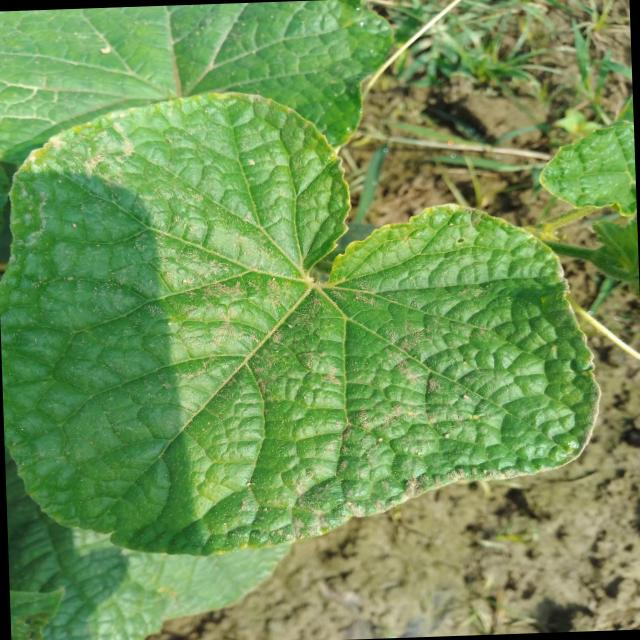cucumber_healthy: (0, 72, 610, 568), (0, 0, 412, 151), (8, 529, 336, 640)
